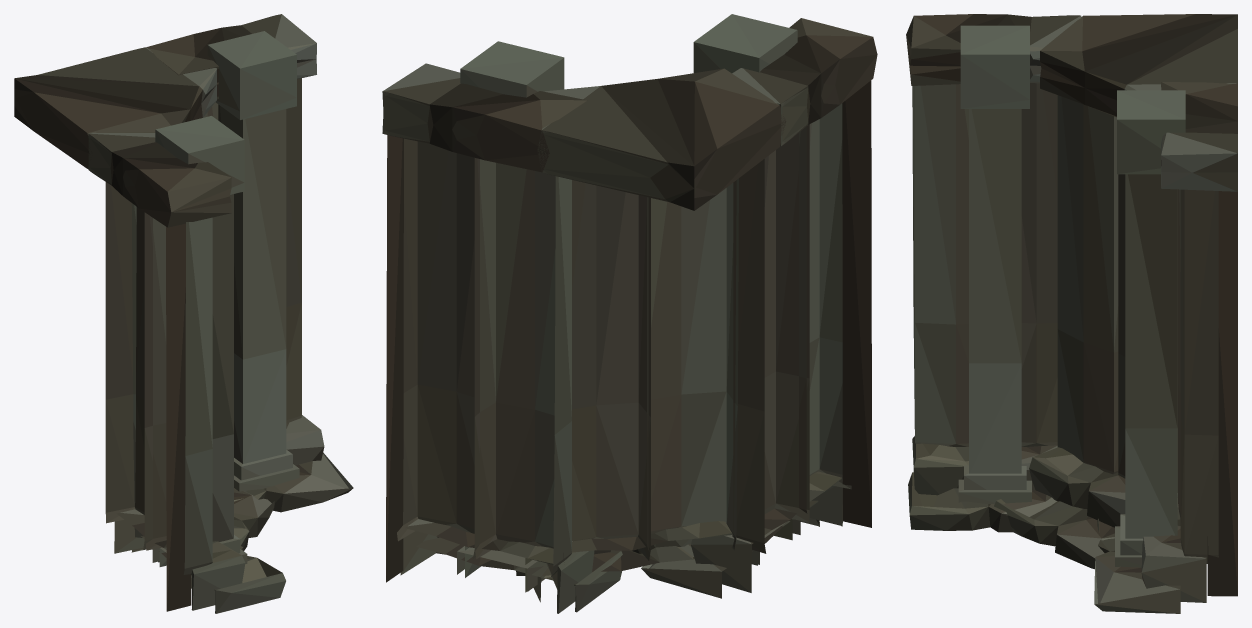
Rendered from wall_A_corner.fbx.
3 views of the same model, side by side, from view 1: azimuth 30°, elevation 25°; view 2: azimuth 150°, elevation 25°; view 3: azimuth 270°, elevation 25° (orthographic). The views are drawn at different scales.
Visible parts, largest first — view 1: wall_A_corner; view 2: wall_A_corner; view 3: wall_A_corner.
Part boxes in pixels (bbox=[...]): wall_A_corner: bbox=[14, 14, 353, 613]; wall_A_corner: bbox=[382, 14, 877, 613]; wall_A_corner: bbox=[906, 14, 1237, 613].
Size of the model in its own units: 4.15 by 6.43 by 4.12.
